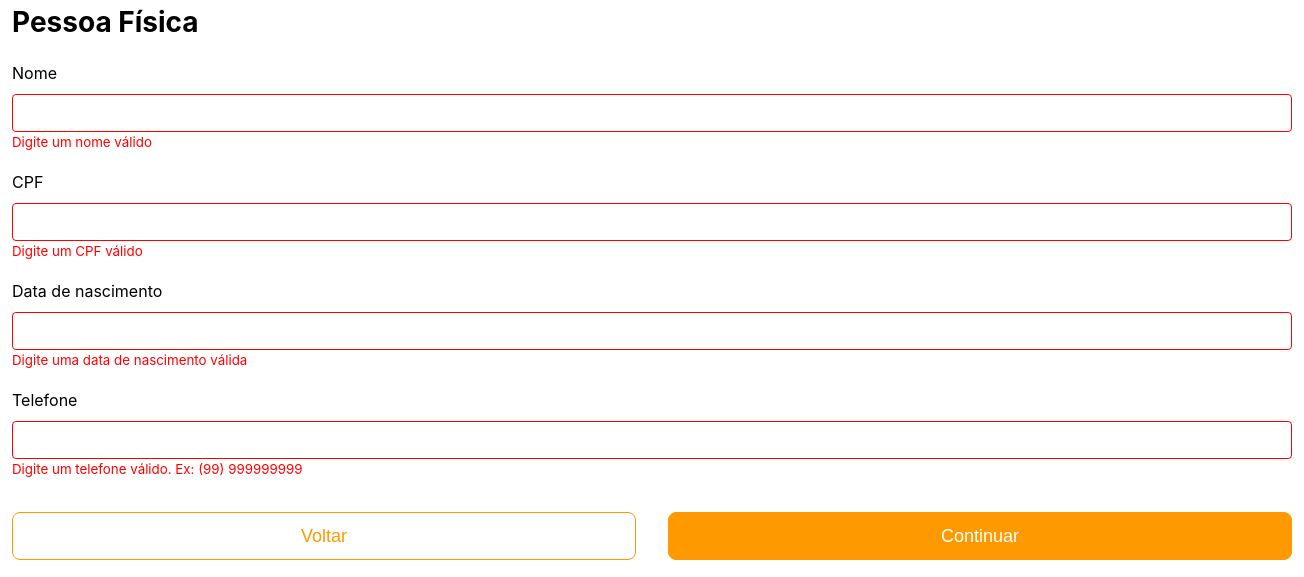
it: FormPerson - Pessoa fisica › should validate CPF is valid
This screenshot has width=1304, height=577.
Type "Frontend Dev tester" into the field with id "name" at {"x": 652, "y": 113}, box [12,94,1292,132]
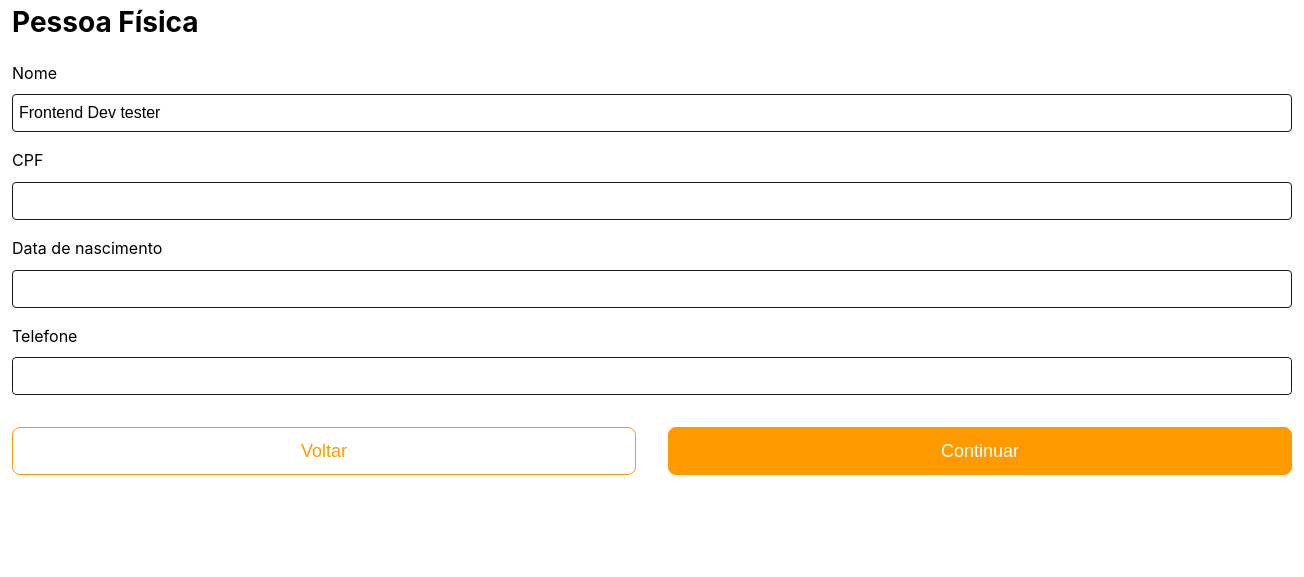
Type "14041995" into the field with id "birth_date" at {"x": 652, "y": 289}, box [12,270,1292,308]
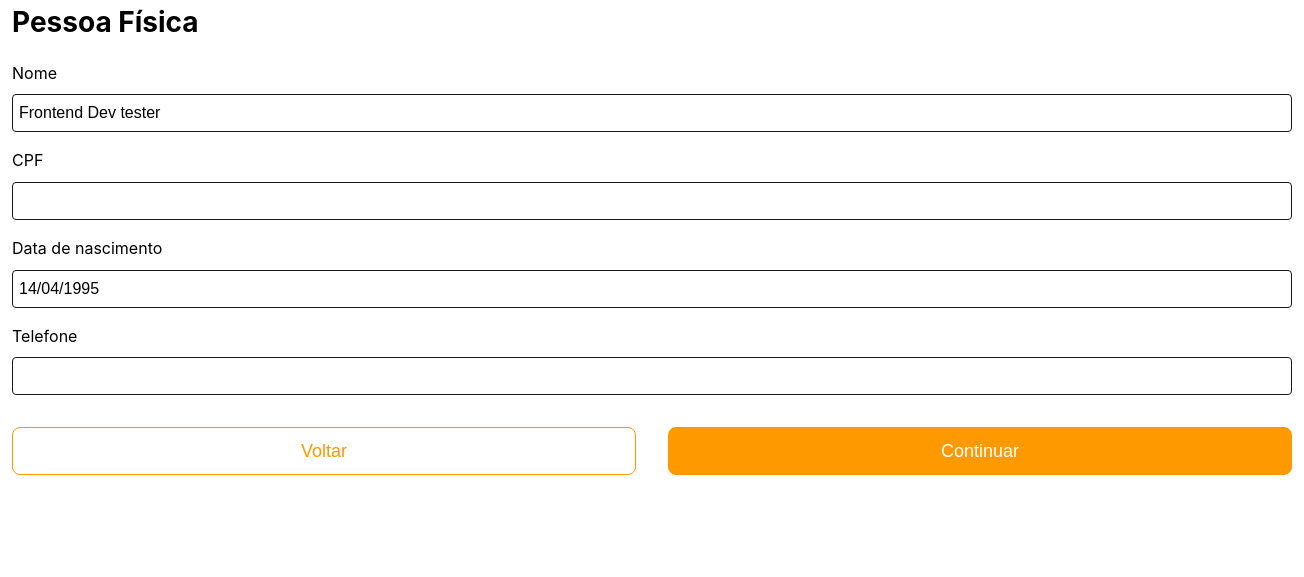
Type "0378585053" into the field with id "document" at {"x": 652, "y": 201}, box [12,182,1292,220]
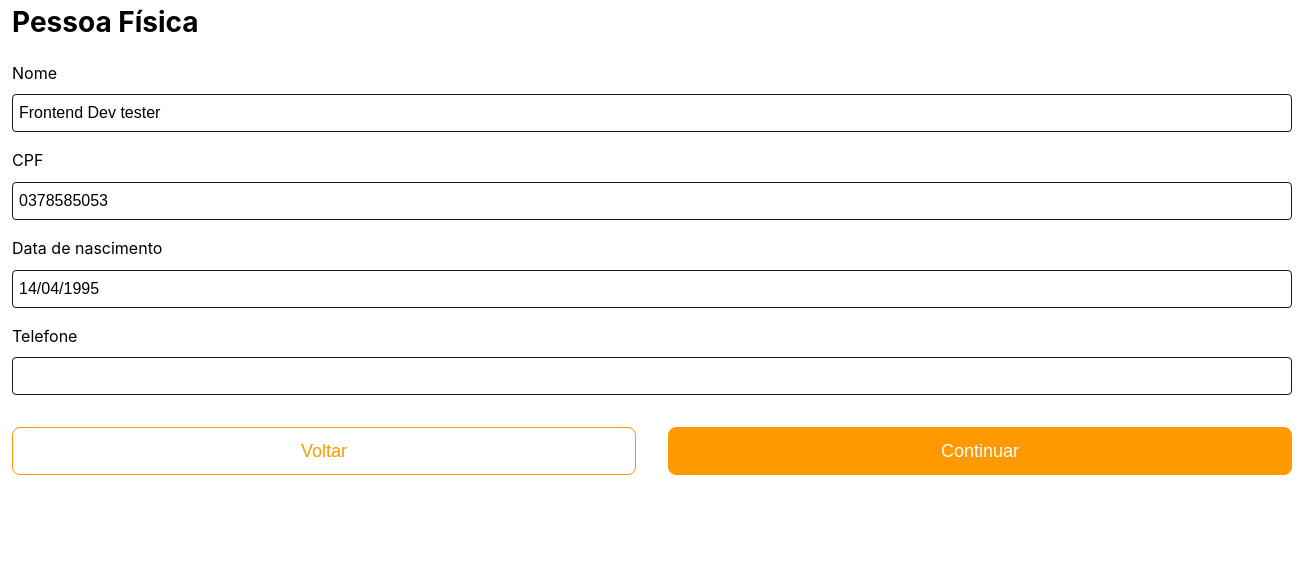
Type "75981535971" into the field labelled "Telefone" at {"x": 652, "y": 376}, box [12,357,1292,395]
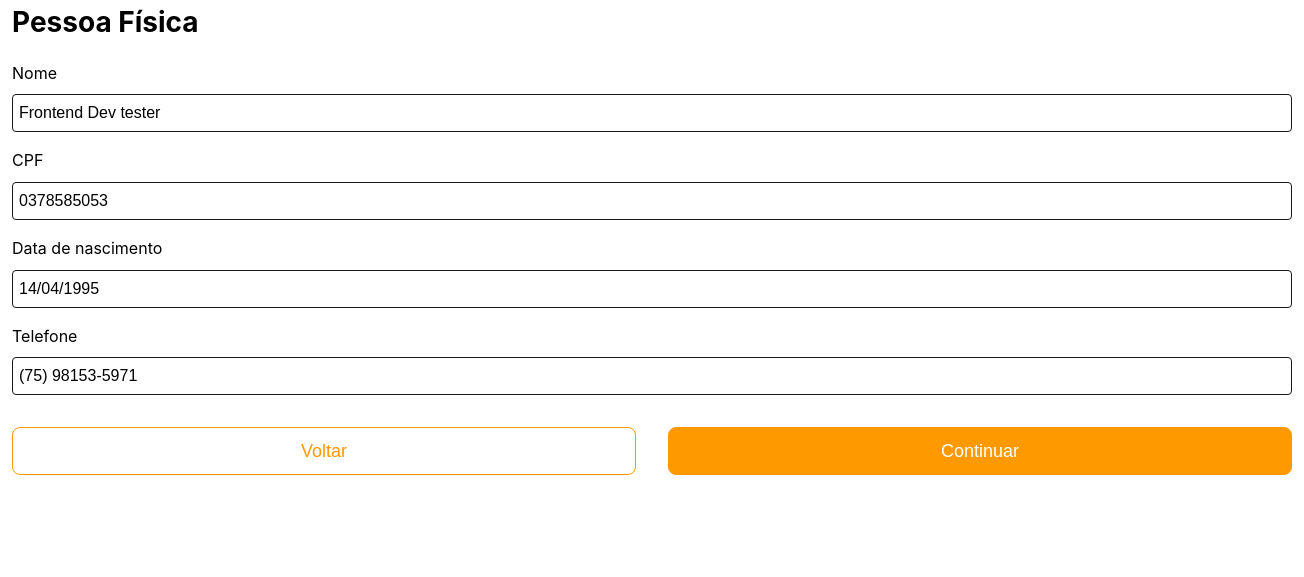
Submit the form
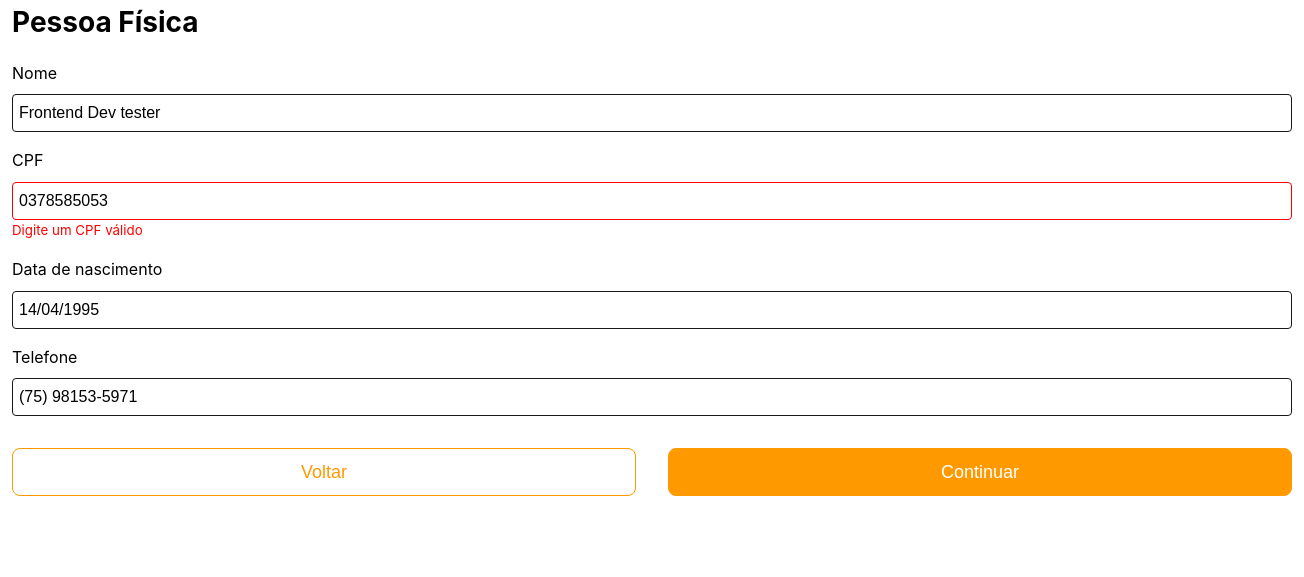
Now the form shows "Digite um CPF válido", box [12,222,143,238]
